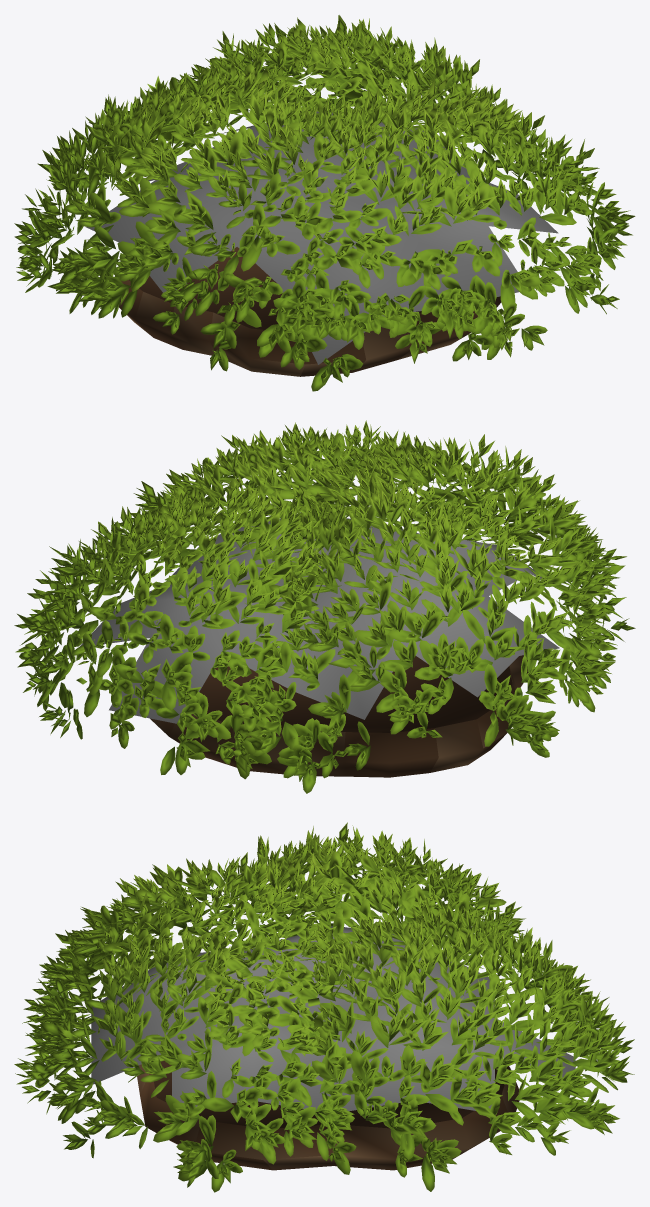
Rendered from moss-tuft-1.glb.
The picture shows the model from 3 angles, top to bottom: view 1: azimuth 30°, elevation 25°; view 2: azimuth 150°, elevation 25°; view 3: azimuth 270°, elevation 25°; orthographic projection. The views are drawn at different scales.
Visible parts, largest first — view 1: lod0; view 2: lod0; view 3: lod0.
Boxes of the visible parts, box(x1,y1,x2,y2) form: lod0: box(14, 15, 635, 391); lod0: box(14, 420, 635, 793); lod0: box(14, 822, 634, 1192).
Size of what is drawn, in the model's own units: 0.959 by 0.4138 by 1.
